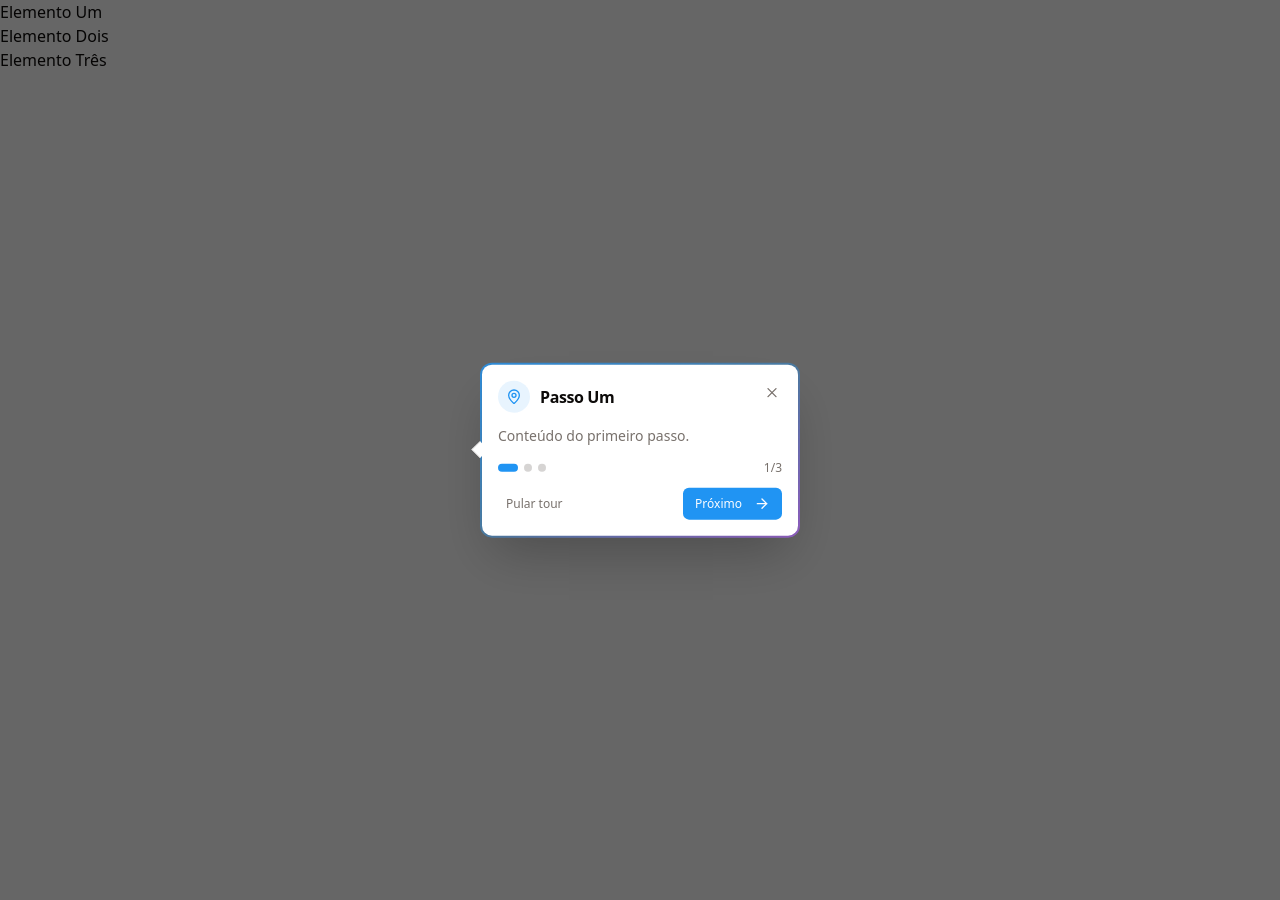
Test: GuidedTour › advances to the next step when 'Próximo' is clicked
Click the button with aria-label "próximo passo" at [733, 503], box [683, 487, 782, 519]
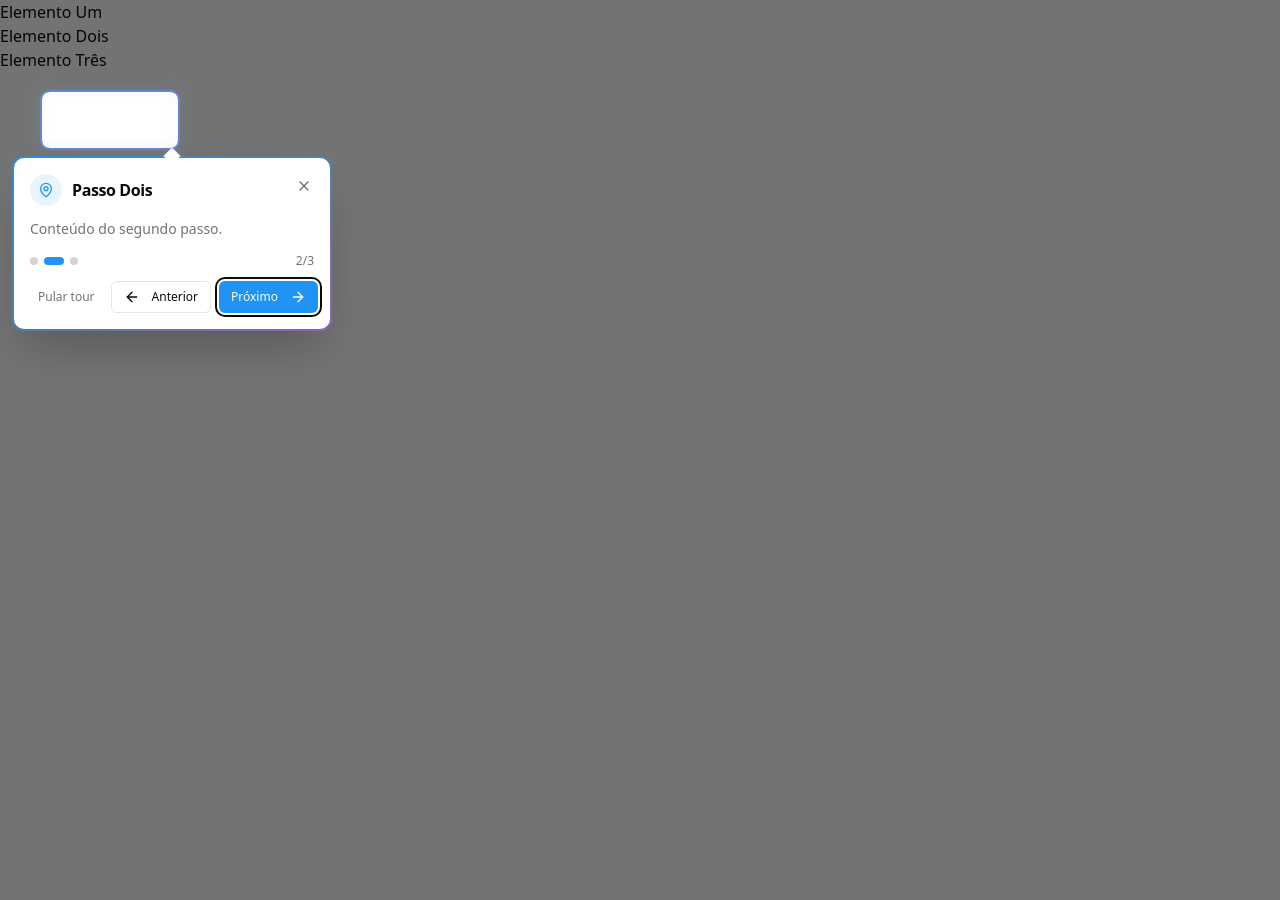
Result: the text "Passo Dois" is shown at [72, 179, 152, 201]
